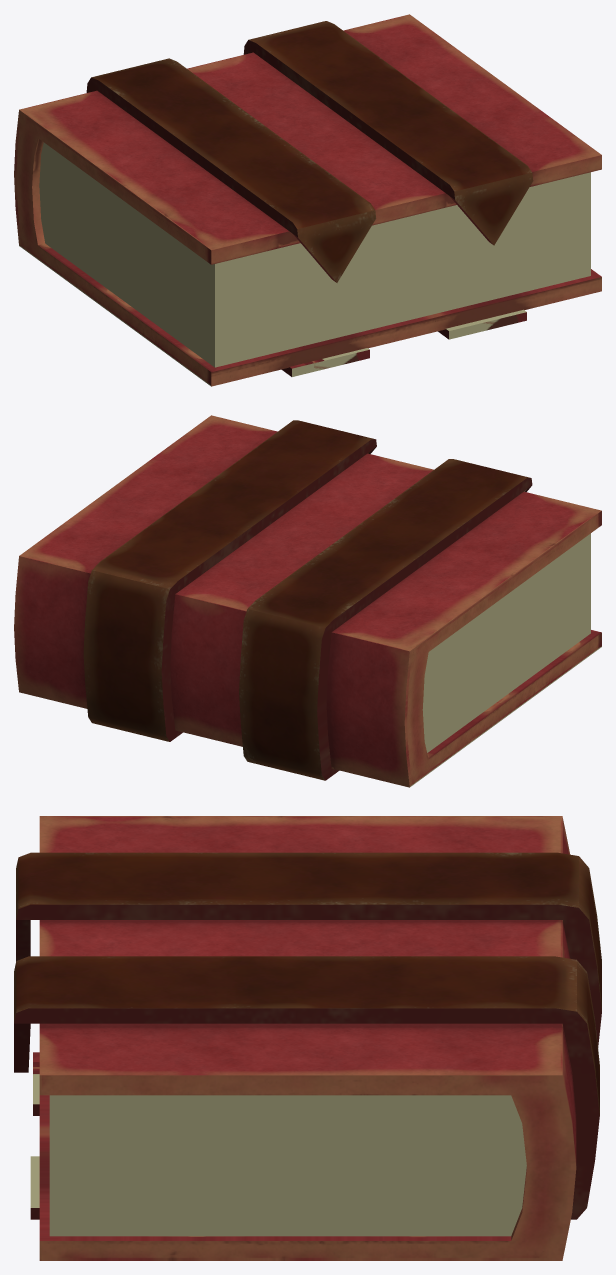
Rendered from LP_Book_002FIXED.fbx.
The picture shows the model from 3 angles, top to bottom: view 1: azimuth 30°, elevation 25°; view 2: azimuth 150°, elevation 25°; view 3: azimuth 270°, elevation 25°; orthographic projection. The views are drawn at different scales.
Parts seen in each view (by area): view 1: BookCover_002, Strips_002; view 2: BookCover_002, Strips_002; view 3: BookCover_002, Strips_002.
Boxes of the visible parts, x1,y1,x2,y2 form: BookCover_002: [14, 14, 601, 386]; Strips_002: [86, 21, 533, 376]; BookCover_002: [14, 415, 601, 787]; Strips_002: [83, 420, 532, 780]; BookCover_002: [39, 816, 576, 1260]; Strips_002: [14, 852, 601, 1219].
Size of the model in its own units: 30 by 11.4 by 28.75.
